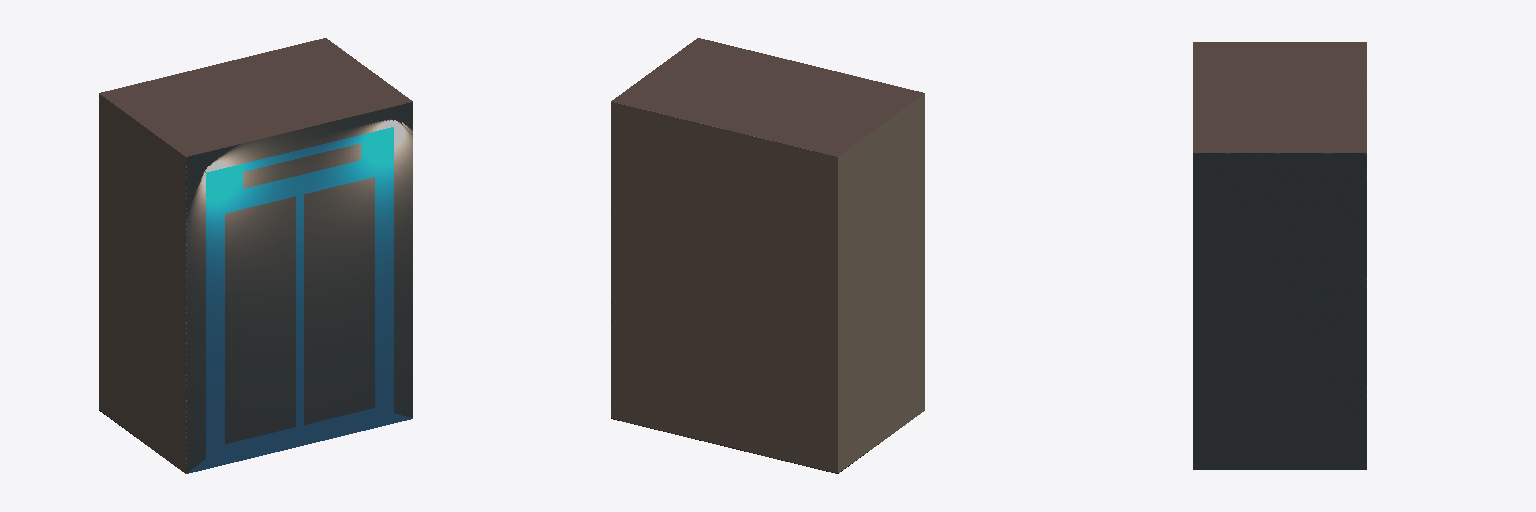
The picture shows the model from 3 angles: view 1: azimuth 30°, elevation 25°; view 2: azimuth 150°, elevation 25°; view 3: azimuth 270°, elevation 25°; orthographic projection.
Parts seen in each view (by area): view 1: Mesh1 G_3DGeom_1 Assembly_1 SimLab_skp Assembly_2 Model, Mesh5 G_3DGeom_2 Assembly_1 SimLab_skp Assembly_2 Model, Mesh2 G_3DGeom_1 Assembly_1 SimLab_skp Assembly_2 Model, Mesh3 G_3DGeom_1 Assembly_1 SimLab_skp Assembly_2 Model, Mesh4 G_3DGeom_1 Assembly_1 SimLab_skp Assembly_2 Model; view 2: Mesh1 G_3DGeom_1 Assembly_1 SimLab_skp Assembly_2 Model; view 3: Mesh1 G_3DGeom_1 Assembly_1 SimLab_skp Assembly_2 Model.
Boxes of the visible parts, box(x1,y1,x2,y2) form: Mesh1 G_3DGeom_1 Assembly_1 SimLab_skp Assembly_2 Model: box(99, 38, 412, 473); Mesh5 G_3DGeom_2 Assembly_1 SimLab_skp Assembly_2 Model: box(187, 127, 412, 473); Mesh2 G_3DGeom_1 Assembly_1 SimLab_skp Assembly_2 Model: box(304, 177, 374, 424); Mesh3 G_3DGeom_1 Assembly_1 SimLab_skp Assembly_2 Model: box(225, 196, 295, 443); Mesh4 G_3DGeom_1 Assembly_1 SimLab_skp Assembly_2 Model: box(243, 143, 360, 188); Mesh1 G_3DGeom_1 Assembly_1 SimLab_skp Assembly_2 Model: box(611, 38, 924, 473); Mesh1 G_3DGeom_1 Assembly_1 SimLab_skp Assembly_2 Model: box(1193, 42, 1366, 469).
Size of the model in its own units: 3 by 4 by 2.
Materials: 2 (2 with a texture image).